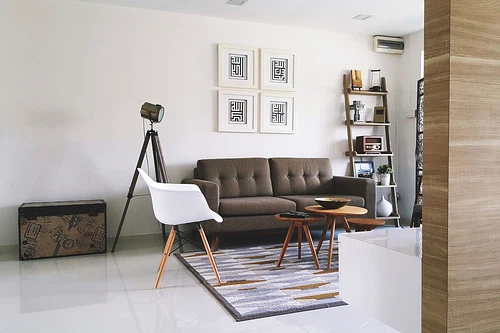chair: (133, 165, 224, 289)
floor lamp: (109, 100, 177, 253)
sofa: (180, 154, 379, 251)
table: (305, 201, 369, 270), (272, 210, 321, 268)
wall art: (214, 41, 257, 89), (214, 89, 259, 134), (259, 45, 295, 93), (259, 93, 296, 135)
